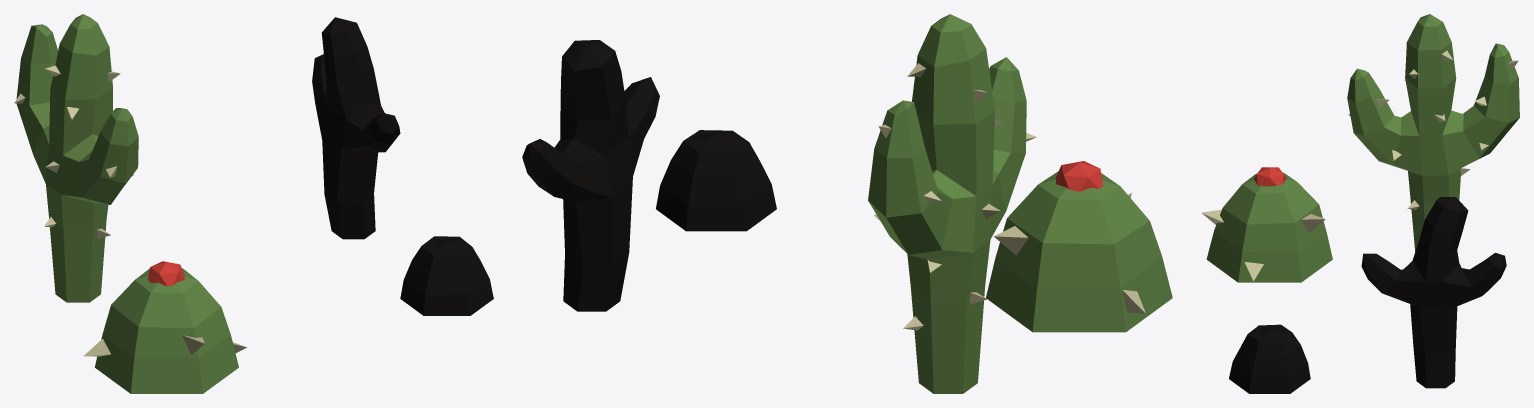
File: modelo_caatinga_cactos.fbx
3 renders of one model, left to right at view 1: azimuth 30°, elevation 25°; view 2: azimuth 150°, elevation 25°; view 3: azimuth 270°, elevation 25°, orthographic. The views are drawn at different scales.
Parts seen in each view (by area): view 1: Caatinga Cacto 1, Caatinga Cacto 2, Caatinga Cacto Morto 1, Caatinga Cacto Morto 2; view 2: Caatinga Cacto 1, Caatinga Cacto 2, Caatinga Cacto Morto 1, Caatinga Cacto Morto 2; view 3: Caatinga Cacto 1, Caatinga Cacto Morto 1, Caatinga Cacto 2, Caatinga Cacto Morto 2.
Boxes of the visible parts, left/top/right/bottom form: Caatinga Cacto 1: left=14, top=14, right=138, bottom=302; Caatinga Cacto 2: left=83, top=261, right=246, bottom=393; Caatinga Cacto Morto 1: left=312, top=17, right=400, bottom=239; Caatinga Cacto Morto 2: left=400, top=236, right=493, bottom=315; Caatinga Cacto 1: left=868, top=14, right=1036, bottom=393; Caatinga Cacto 2: left=986, top=161, right=1172, bottom=332; Caatinga Cacto Morto 1: left=522, top=40, right=659, bottom=311; Caatinga Cacto Morto 2: left=656, top=130, right=776, bottom=231; Caatinga Cacto 1: left=1347, top=14, right=1519, bottom=251; Caatinga Cacto Morto 1: left=1361, top=197, right=1506, bottom=388; Caatinga Cacto 2: left=1201, top=167, right=1332, bottom=282; Caatinga Cacto Morto 2: left=1229, top=324, right=1310, bottom=393.
Bounding box in the file's own units: 237 × 170 × 196.
